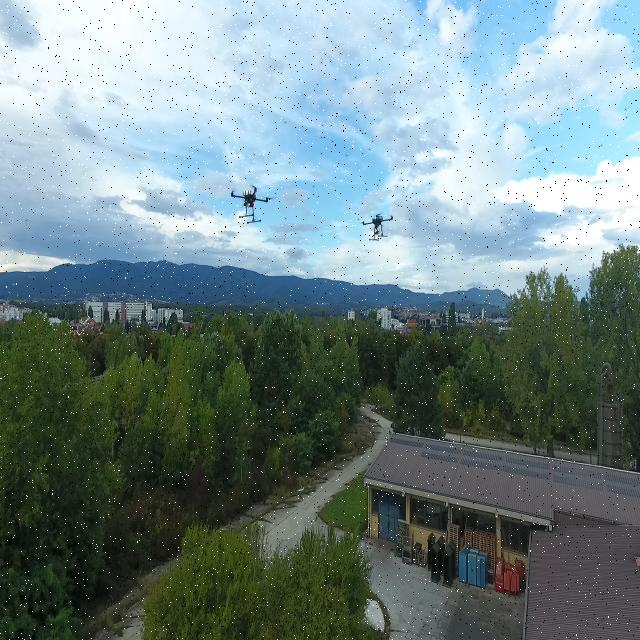UAV: (225, 183, 275, 225), (356, 206, 398, 245)
